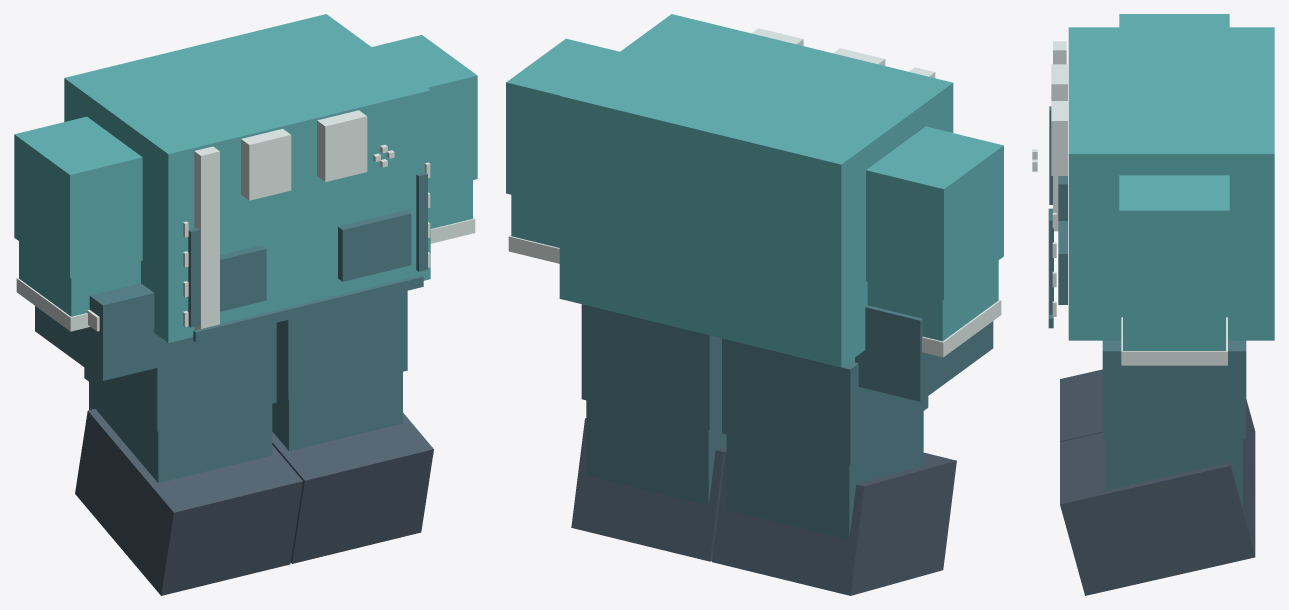
Rendered from student-teal.glb.
3 views of the same model, side by side, from view 1: azimuth 30°, elevation 25°; view 2: azimuth 150°, elevation 25°; view 3: azimuth 270°, elevation 25° (orthographic). The views are drawn at different scales.
Parts seen in each view (by area): view 1: jacket, shoe-Right, upper-sleeve-Right, shoe-Left, trouser-Right, trouser-Left, lower-trouser-Right, upper-sleeve-Left, satchel, lower-trouser-Left, pocket-1, satchel-strap (+10 smaller); view 2: jacket, upper-sleeve-Right, shoe-Right, trouser-Right, trouser-Left, lower-trouser-Right, lower-trouser-Left, upper-sleeve-Left, shoe-Left, satchel, lower-sleeve-Right, lower-sleeve-Left (+2 smaller); view 3: jacket, shoe-Left, upper-sleeve-Left, trouser-Left, lower-trouser-Left, lower-sleeve-Left, shoe-Right, cuff-Left, upper-sleeve-Right, lapel-1, pocket-1, lapel--1 (+3 smaller).
Boxes of the visible parts, x1,y1,x2,y2 form: jacket: [64, 14, 430, 342]; shoe-Right: [75, 409, 302, 595]; upper-sleeve-Right: [14, 116, 142, 278]; shoe-Left: [272, 413, 433, 563]; trouser-Right: [84, 322, 276, 431]; trouser-Left: [276, 290, 407, 399]; lower-trouser-Right: [89, 382, 272, 482]; upper-sleeve-Left: [372, 35, 477, 190]; satchel: [35, 283, 163, 380]; lower-trouser-Left: [272, 372, 402, 451]; pocket-1: [338, 210, 411, 281]; satchel-strap: [194, 146, 219, 330]; jacket: [559, 14, 953, 367]; upper-sleeve-Right: [866, 126, 1003, 300]; shoe-Right: [712, 452, 956, 595]; trouser-Right: [722, 338, 928, 464]; trouser-Left: [581, 304, 721, 430]; lower-trouser-Right: [726, 411, 923, 539]; lower-trouser-Left: [586, 400, 726, 505]; upper-sleeve-Left: [506, 38, 619, 206]; shoe-Left: [571, 418, 726, 561]; satchel: [855, 305, 993, 401]; lower-sleeve-Right: [867, 260, 998, 341]; lower-sleeve-Left: [511, 195, 559, 247]; jacket: [1068, 27, 1274, 340]; shoe-Left: [1060, 432, 1255, 595]; upper-sleeve-Left: [1119, 175, 1229, 312]; trouser-Left: [1102, 340, 1246, 438]; lower-trouser-Left: [1106, 439, 1242, 507]; lower-sleeve-Left: [1123, 312, 1225, 350]; shoe-Right: [1060, 369, 1255, 493]; cuff-Left: [1121, 317, 1227, 365]; upper-sleeve-Right: [1119, 14, 1229, 27]; lapel-1: [1051, 101, 1067, 175]; pocket-1: [1058, 221, 1067, 304]; lapel--1: [1051, 64, 1067, 100].
Size of the model in its own units: 1.07 by 1.13 by 0.559.
